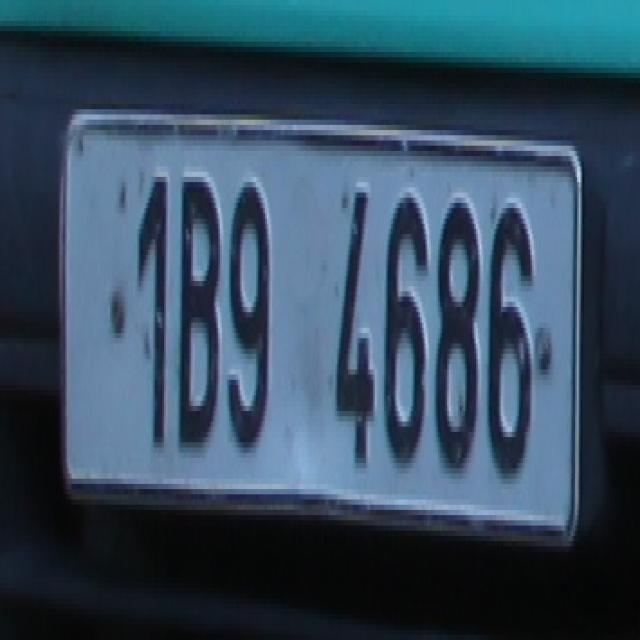1: (135, 166, 171, 448)
4: (335, 182, 379, 463)
6: (487, 182, 535, 479), (386, 187, 429, 458)
8: (433, 172, 481, 474)
9: (227, 182, 276, 448)
B: (175, 172, 223, 452)
